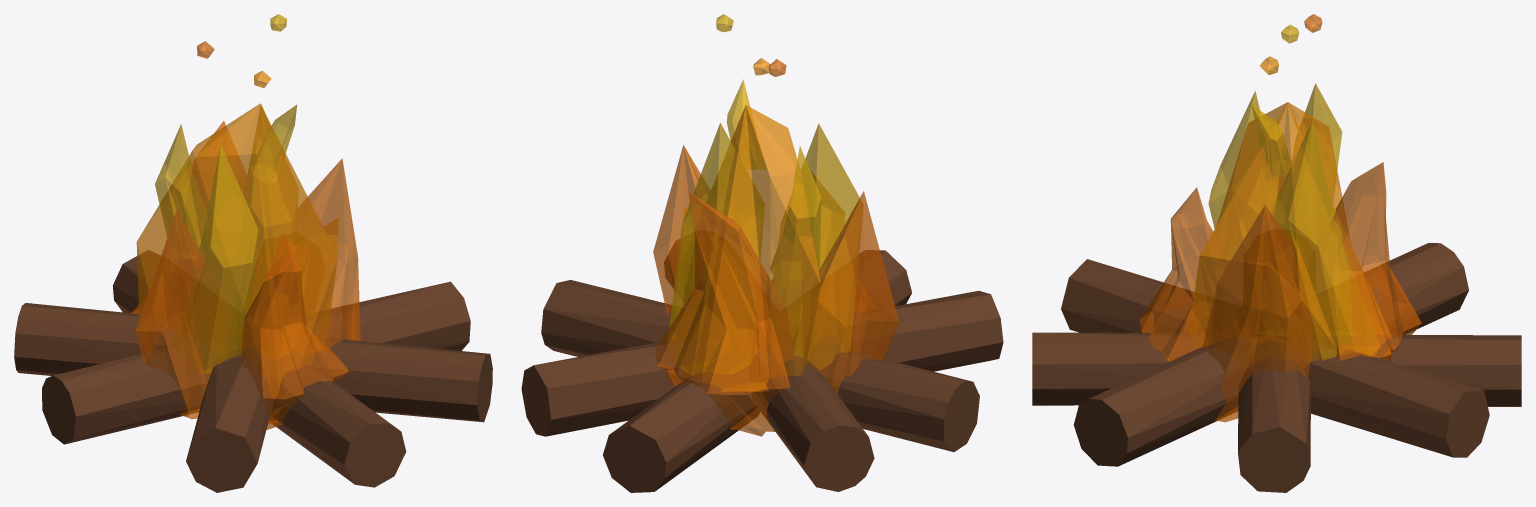
The model's file is fire.dae.
The picture shows the model from 3 angles, left to right: view 1: azimuth 30°, elevation 25°; view 2: azimuth 150°, elevation 25°; view 3: azimuth 270°, elevation 25°; orthographic projection. The views are drawn at different scales.
Visible parts, largest first — view 1: Logs, midFlame, dFlame4, yFlame1, dFlame2, dFlame3, yFlame2, yFlame3, dFlame1, yFlame4; view 2: Logs, midFlame, dFlame1, yFlame1, dFlame4, yFlame2, yFlame3, dFlame3, yFlame4, dFlame2; view 3: Logs, midFlame, dFlame3, yFlame2, dFlame1, dFlame2, yFlame1, yFlame3, yFlame4.
Part boxes in pixels (bbox=[...]): Logs: bbox=[14, 250, 492, 492]; midFlame: bbox=[136, 103, 338, 412]; dFlame4: bbox=[135, 210, 227, 419]; yFlame1: bbox=[170, 144, 258, 373]; dFlame2: bbox=[241, 232, 348, 429]; dFlame3: bbox=[254, 158, 360, 350]; yFlame2: bbox=[244, 103, 297, 300]; yFlame3: bbox=[155, 124, 206, 258]; dFlame1: bbox=[131, 121, 263, 314]; yFlame4: bbox=[251, 104, 297, 183]; Logs: bbox=[521, 239, 1003, 492]; midFlame: bbox=[676, 105, 821, 391]; dFlame1: bbox=[655, 192, 792, 436]; yFlame1: bbox=[773, 123, 862, 369]; dFlame4: bbox=[793, 191, 898, 394]; yFlame2: bbox=[667, 123, 764, 375]; yFlame3: bbox=[770, 146, 821, 280]; dFlame3: bbox=[653, 145, 709, 317]; yFlame4: bbox=[726, 79, 766, 169]; dFlame2: bbox=[772, 172, 875, 312]; Logs: bbox=[1032, 243, 1521, 492]; midFlame: bbox=[1183, 102, 1391, 371]; dFlame3: bbox=[1202, 205, 1323, 422]; yFlame2: bbox=[1271, 121, 1380, 360]; dFlame1: bbox=[1310, 162, 1421, 361]; dFlame2: bbox=[1139, 187, 1254, 361]; yFlame1: bbox=[1208, 91, 1285, 336]; yFlame3: bbox=[1292, 83, 1342, 202]; yFlame4: bbox=[1251, 105, 1291, 180].
Bounding box in the file's own units: 2.3 × 2.39 × 2.12.
